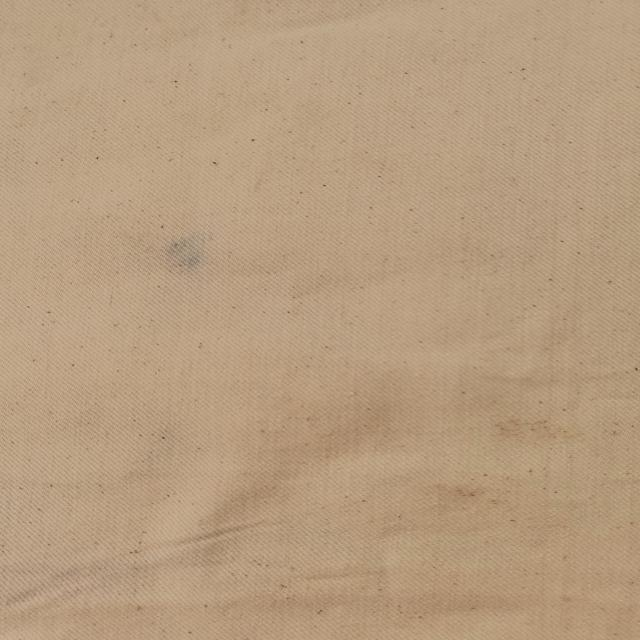taaaches: (139, 225, 225, 287), (412, 478, 526, 511), (469, 418, 584, 448)
